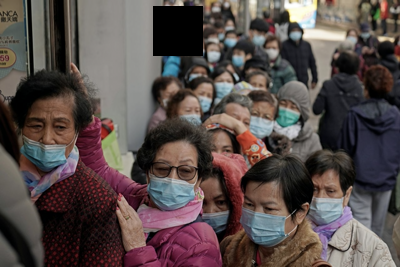mask_weared_incorrect: (23, 114, 77, 172)
with_mask: (147, 157, 200, 211), (243, 192, 293, 247), (309, 182, 346, 224), (201, 191, 230, 234), (249, 108, 276, 140), (275, 99, 303, 128), (214, 76, 237, 99), (195, 90, 214, 113), (232, 50, 247, 67), (266, 45, 281, 61), (207, 47, 222, 63), (253, 33, 267, 45), (227, 36, 239, 48), (290, 31, 304, 41), (362, 32, 372, 40)
